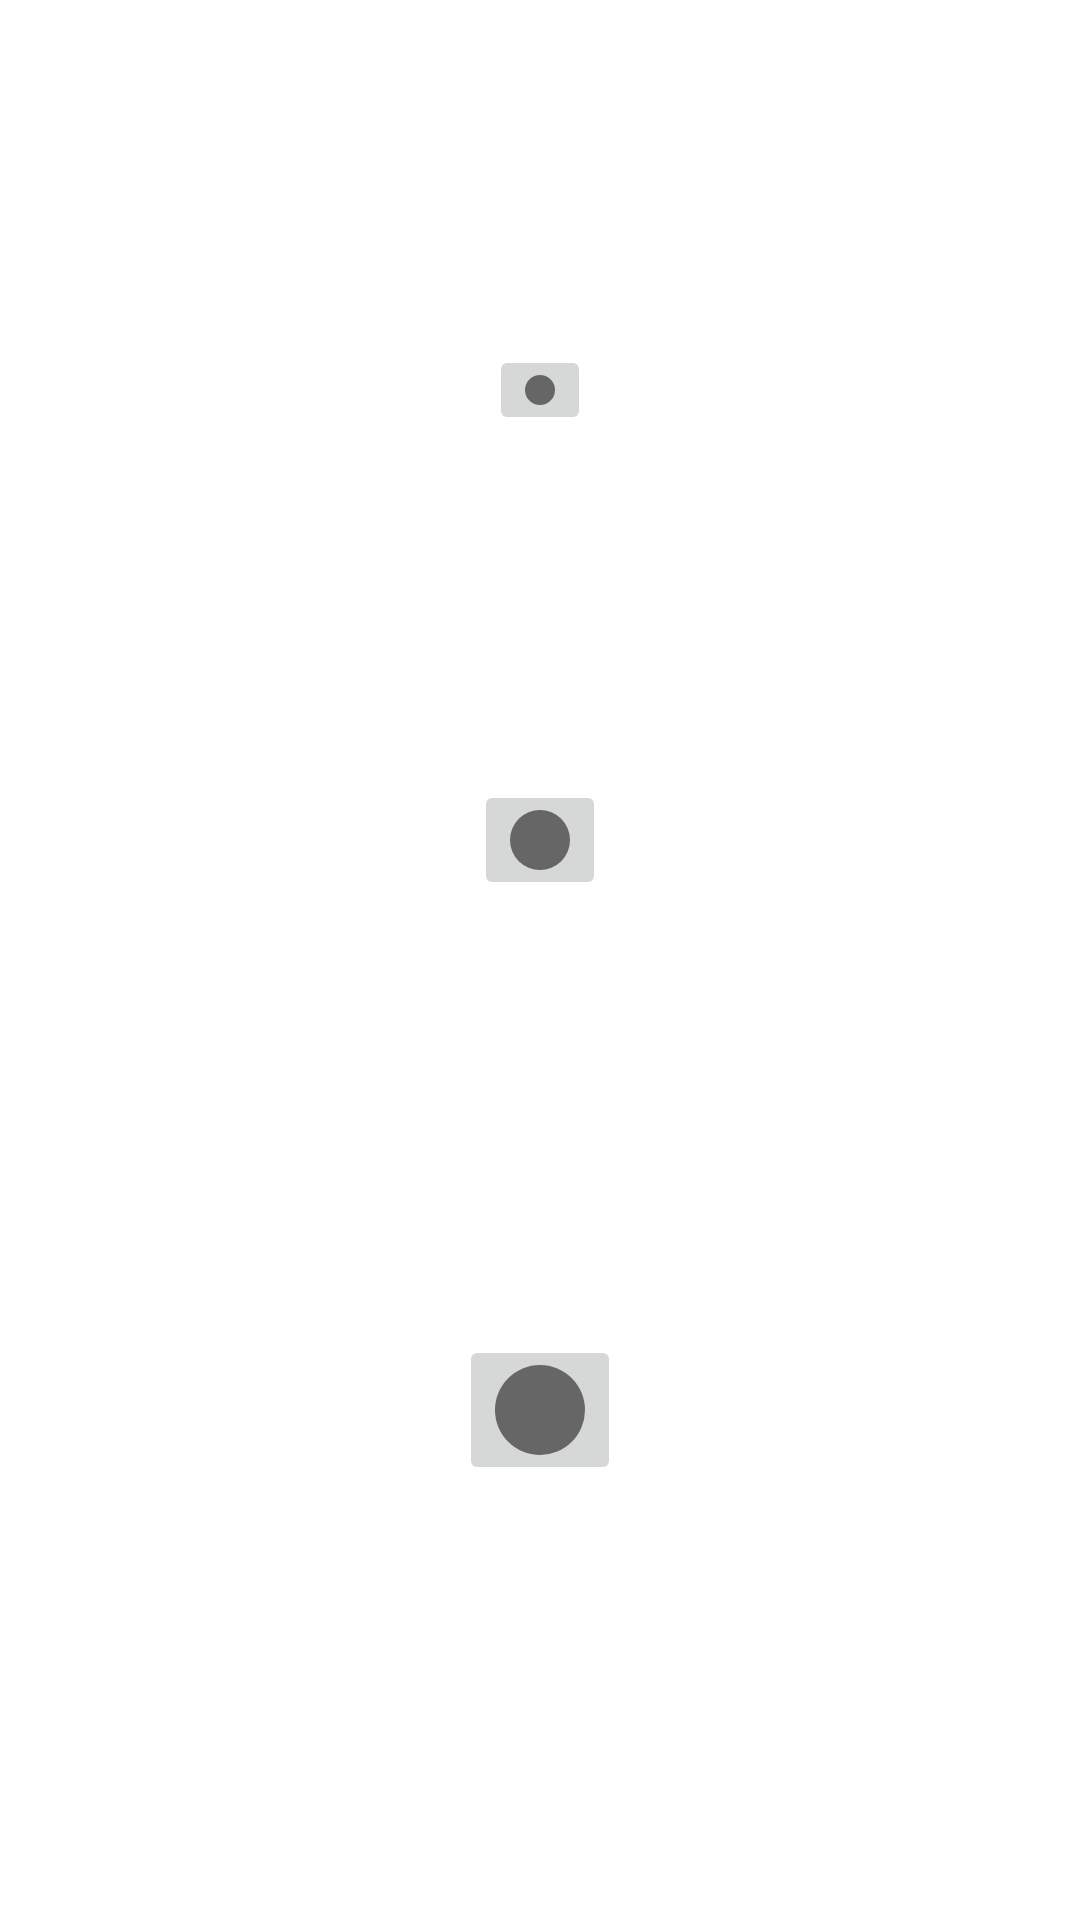

Where to tap for icons on this 1080*1920 app screen, as [x,y]:
medium: [540,840]
